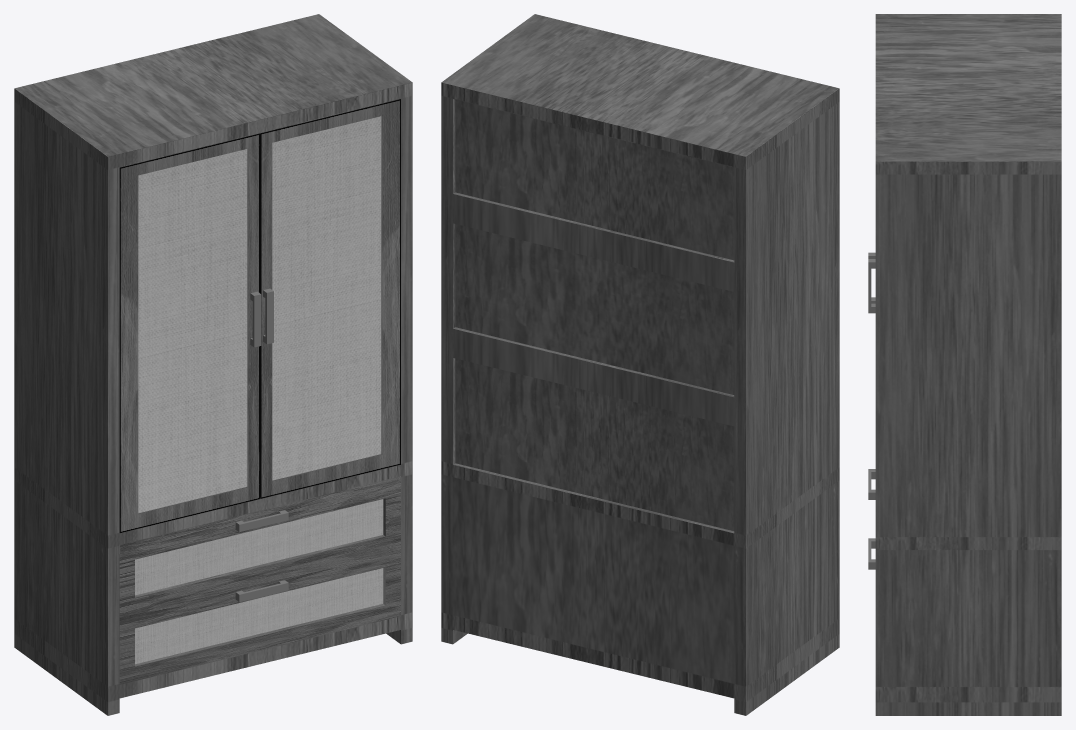
The model's file is Wood Mansion Wardrobe (B&W Version).fbx.
3 views of the same model, side by side, from view 1: azimuth 30°, elevation 25°; view 2: azimuth 150°, elevation 25°; view 3: azimuth 270°, elevation 25° (orthographic).
Visible parts, largest first — view 1: Base, Left Door, Right Door, Upper Drawer, Lower Drawer; view 2: Base; view 3: Base.
Part boxes in pixels (left/top/right/bottom): Base: left=14, top=14, right=412, bottom=715; Left Door: left=119, top=133, right=260, bottom=533; Right Door: left=260, top=99, right=400, bottom=498; Upper Drawer: left=119, top=476, right=400, bottom=615; Lower Drawer: left=119, top=547, right=400, bottom=684; Base: left=441, top=14, right=839, bottom=715; Base: left=875, top=14, right=1061, bottom=715.
Size of the model in its own units: 217 by 380 by 120.
